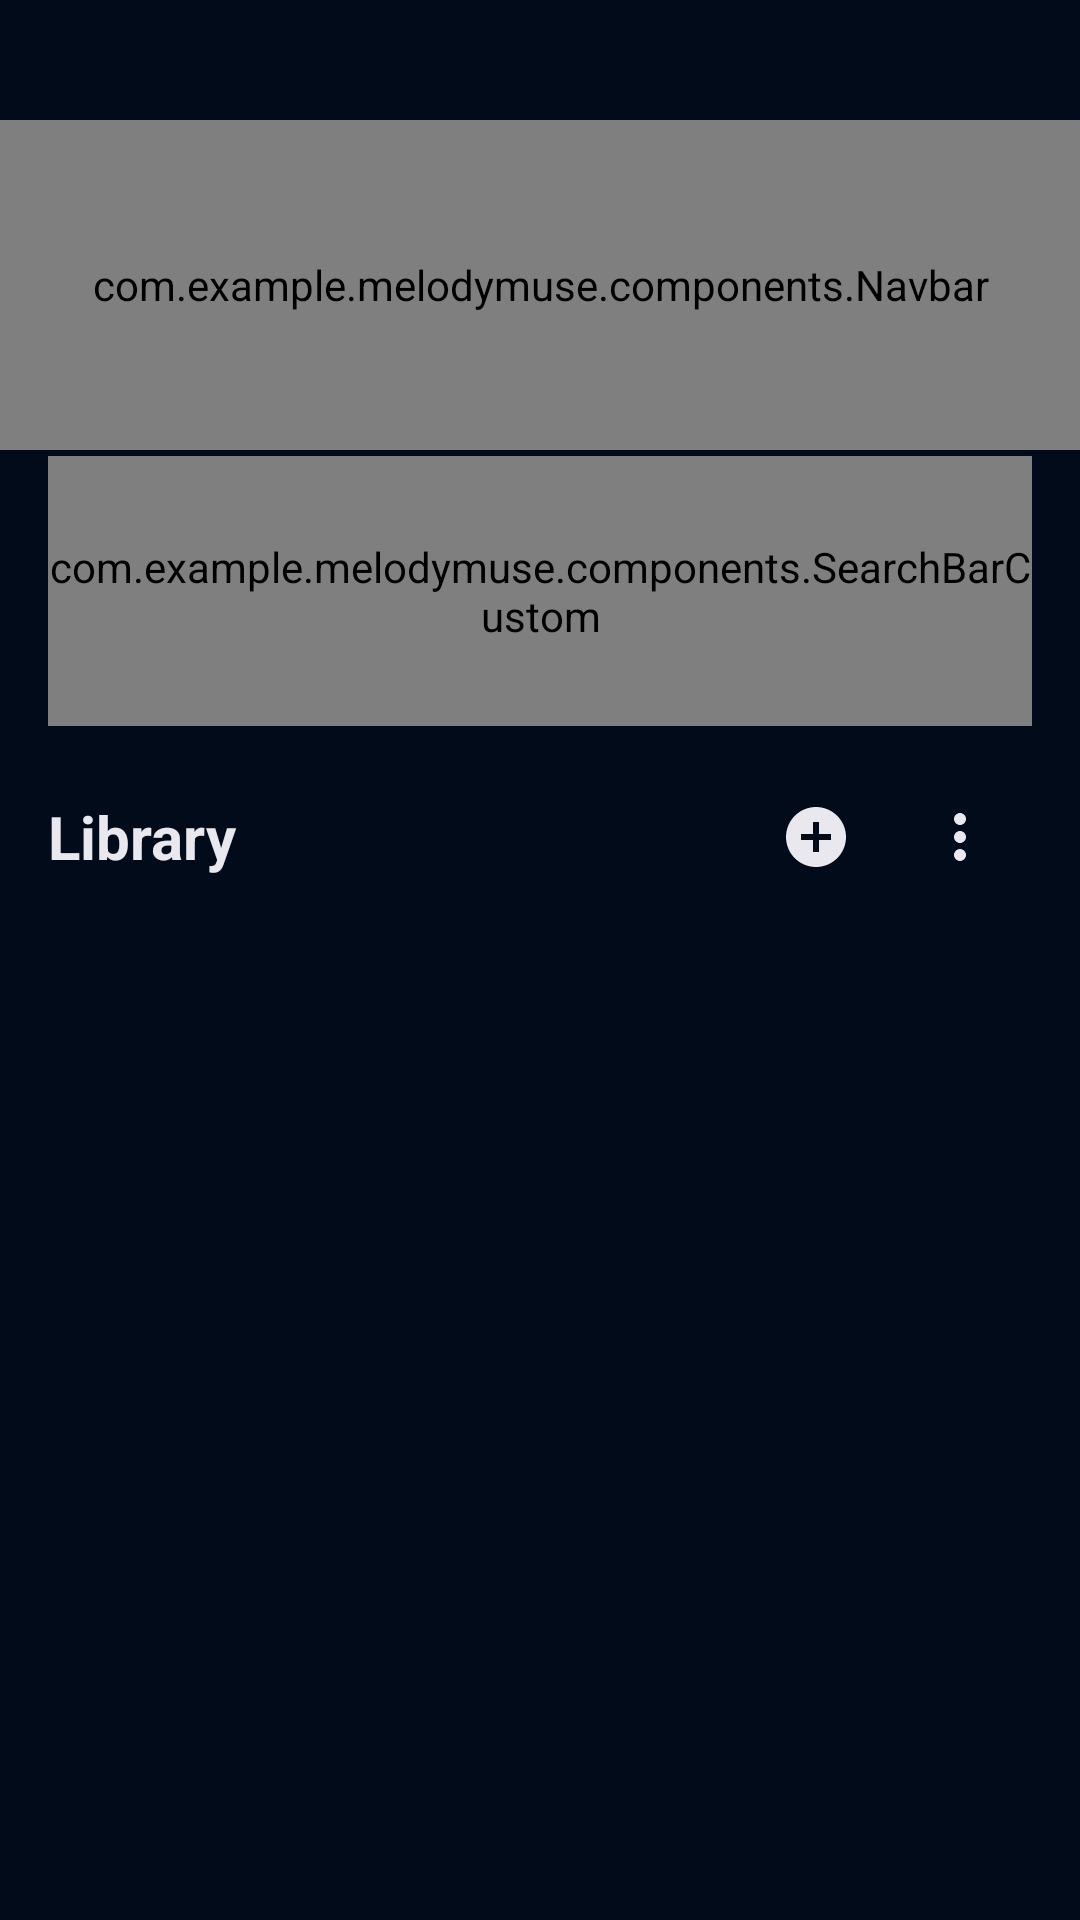

Screen size 1080px×1920px. Icon name, then its box in pixels as (x1, y1, x2, y2):
Add: (786, 807, 846, 867)
More: (954, 813, 966, 861)
